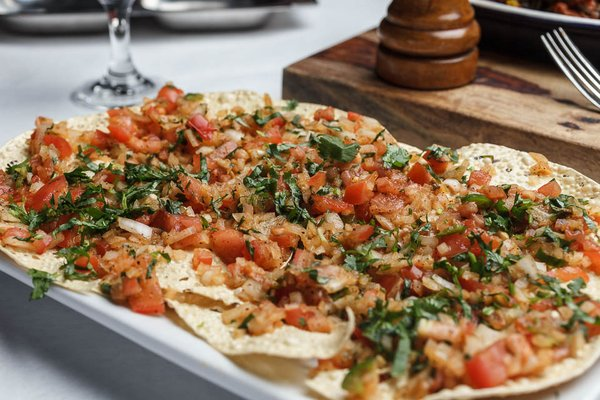burger: (540, 25, 600, 112)
